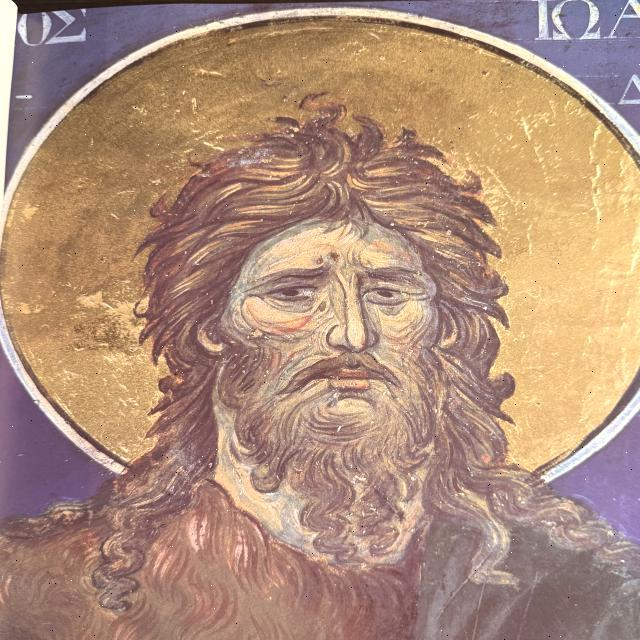aura: (1, 9, 640, 493)
saint: (13, 12, 637, 638)
